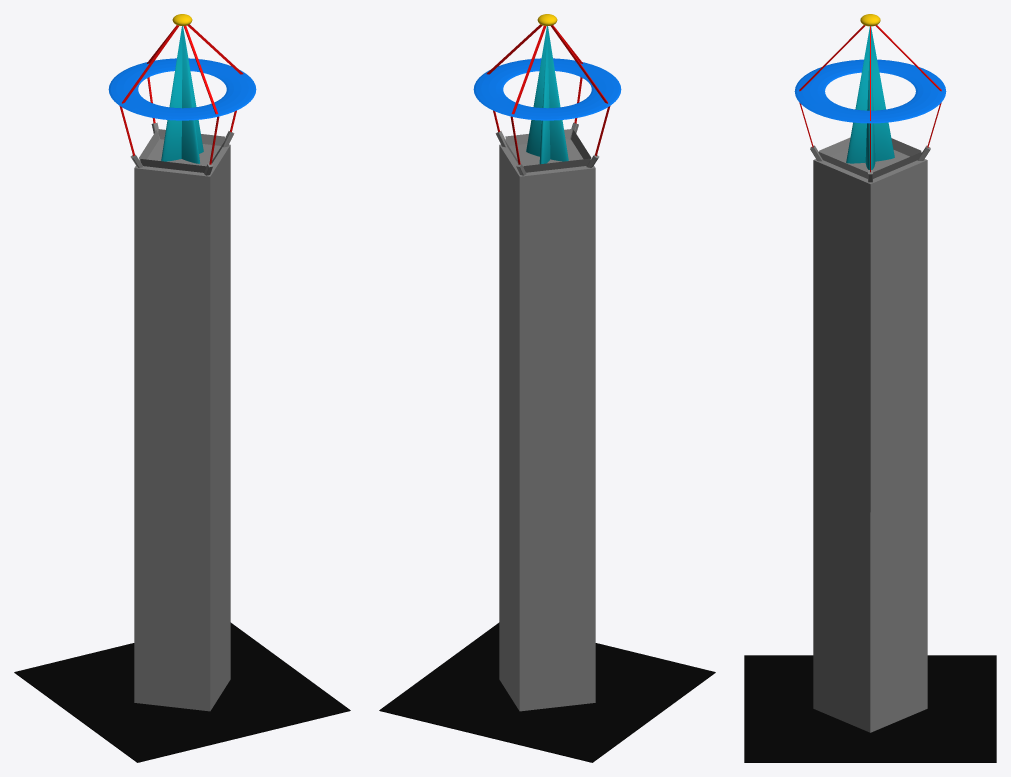
File: Building_Tower_1.fbx
3 views of the same model, side by side, from view 1: azimuth 30°, elevation 25°; view 2: azimuth 150°, elevation 25°; view 3: azimuth 270°, elevation 25° (orthographic). The views are drawn at different scales.
Visible parts, largest first — view 1: Wall, BaseGround, TopToroid, TopPillar, SupportPillar; view 2: Wall, BaseGround, TopToroid, TopPillar, SupportPillar; view 3: Wall, BaseGround, TopToroid, TopPillar, SupportPillar.
Part boxes in pixels (x1,y1,x2,y2): Wall: [130, 122, 234, 711]; BaseGround: [14, 622, 350, 762]; TopToroid: [108, 58, 256, 120]; TopPillar: [161, 26, 203, 163]; SupportPillar: [119, 24, 243, 164]; Wall: [495, 122, 599, 711]; BaseGround: [379, 622, 715, 762]; TopToroid: [473, 58, 621, 120]; TopPillar: [526, 26, 568, 164]; SupportPillar: [486, 24, 610, 164]; Wall: [810, 137, 930, 732]; BaseGround: [744, 655, 996, 762]; TopToroid: [794, 59, 946, 123]; TopPillar: [846, 26, 894, 169]; SupportPillar: [799, 25, 941, 172].
Size of the model in its own units: 50 by 152 by 50.
